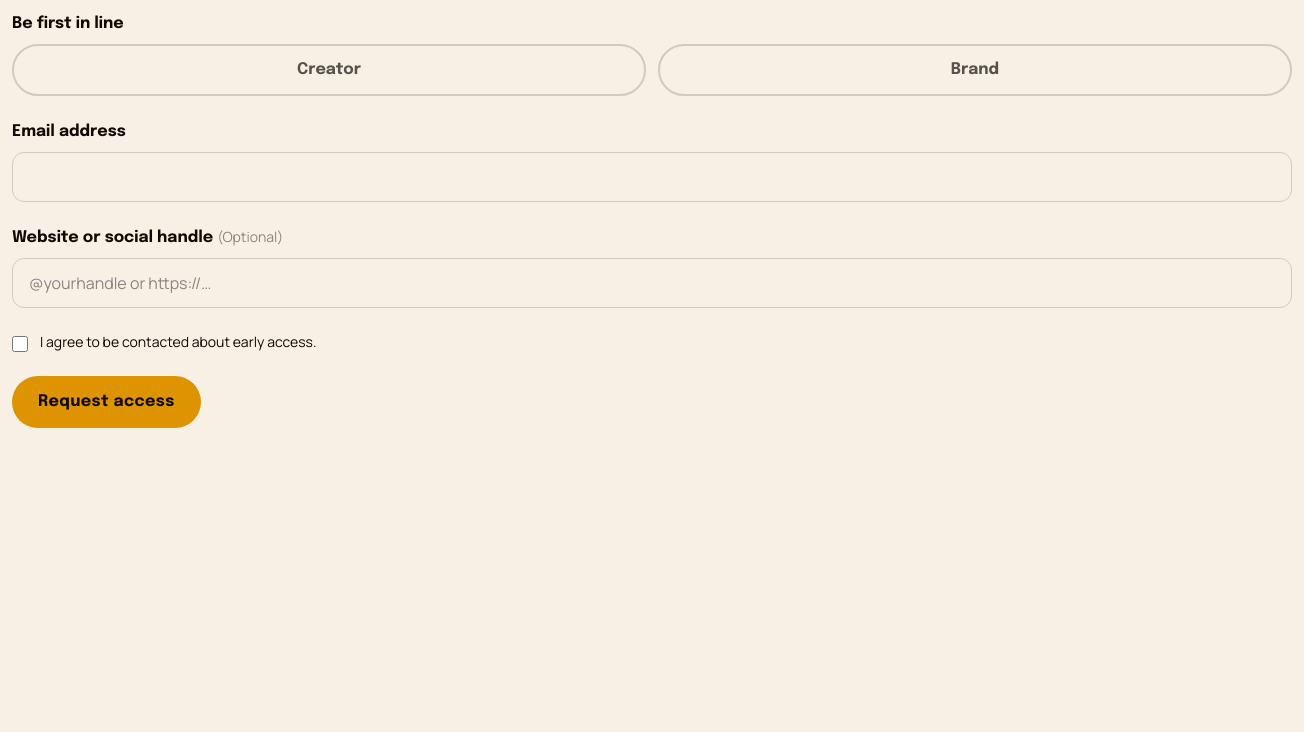
Test: WaitlistForm › shows validation errors and does not submit when empty
Click the button "Request access" at (106, 402), box [12,376,201,428]
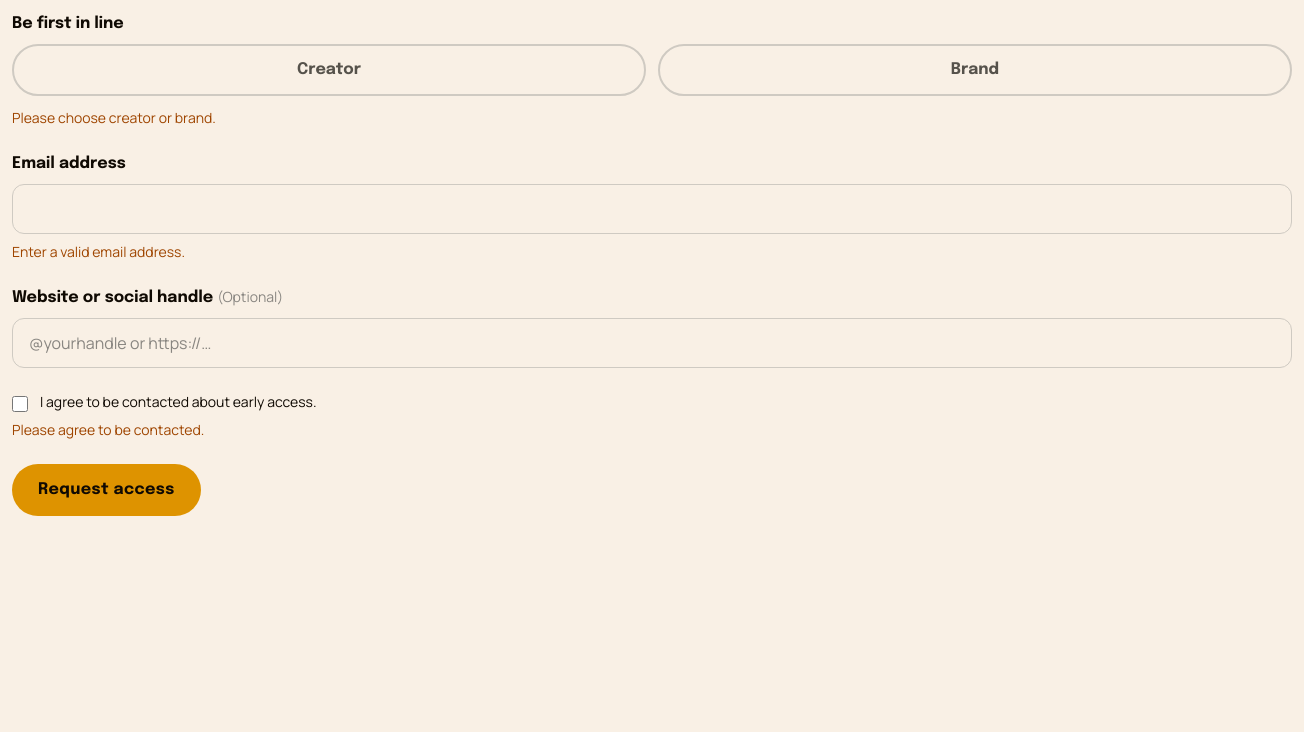
Expected: the text "Please choose creator or brand." is shown, [12,108,216,127]
Expected: the text "Enter a valid email address." is shown, [12,242,185,261]
Expected: the text "Please agree to be contacted." is shown, [12,420,204,439]
